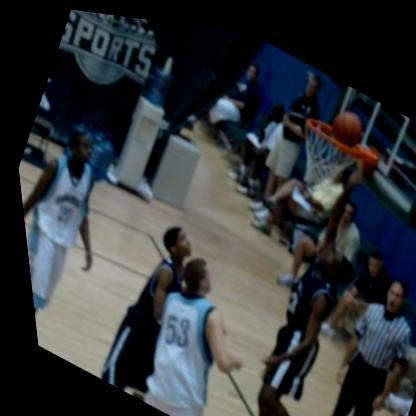basketball: (324, 93, 368, 143)
rim: (297, 101, 366, 153)
